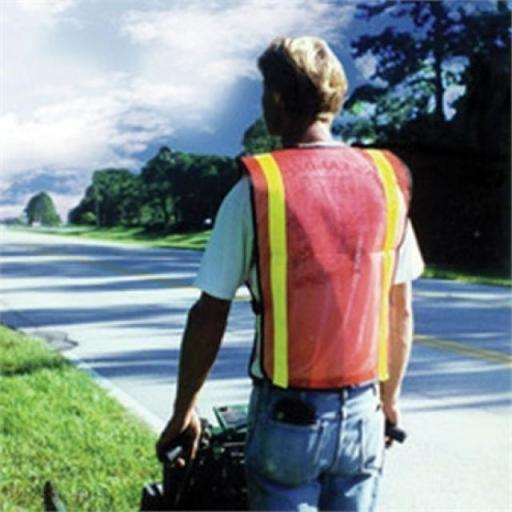Person: (161, 42, 434, 512)
